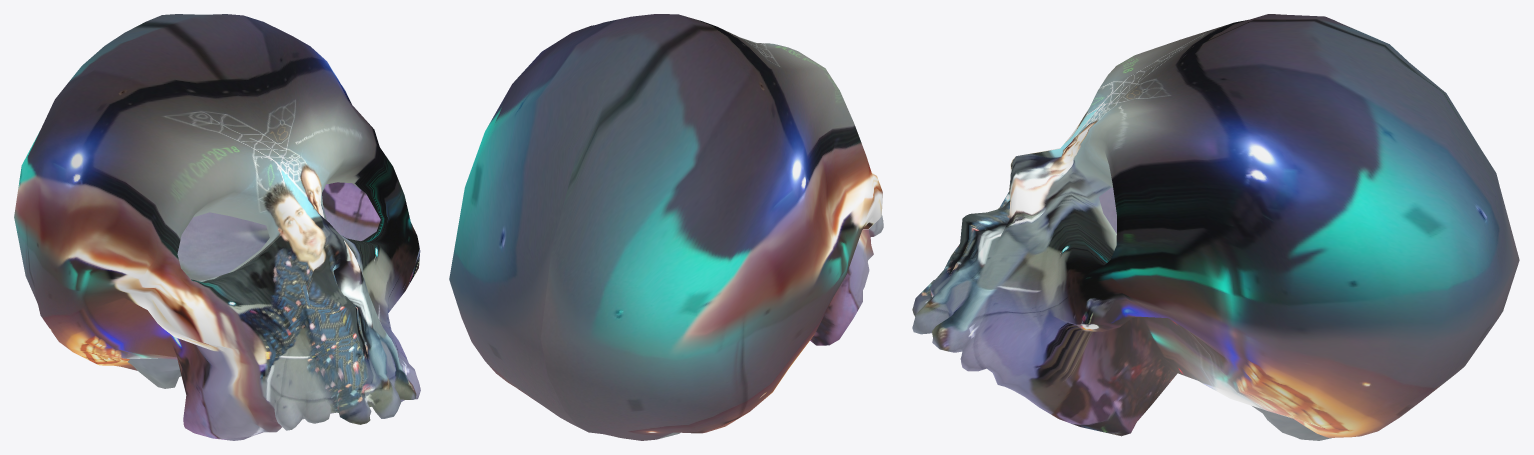
Rendered from calavera.gltf.
3 views of the same model, side by side, from view 1: azimuth 30°, elevation 25°; view 2: azimuth 150°, elevation 25°; view 3: azimuth 270°, elevation 25° (orthographic). The views are drawn at different scales.
Parts seen in each view (by area): view 1: skull_3d_model; view 2: skull_3d_model; view 3: skull_3d_model.
Boxes of the visible parts, x1,y1,x2,y2 form: skull_3d_model: (14,14,420,440); skull_3d_model: (449,14,883,440); skull_3d_model: (912,14,1519,440).
Size of the model in its own units: 0.5211 by 0.5947 by 0.8195.
Materials: 1 (1 with a texture image).
